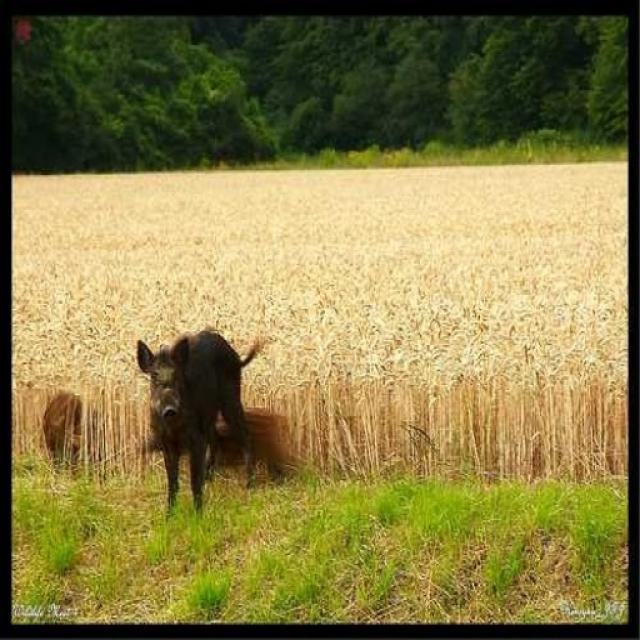pig: (129, 290, 287, 492)
